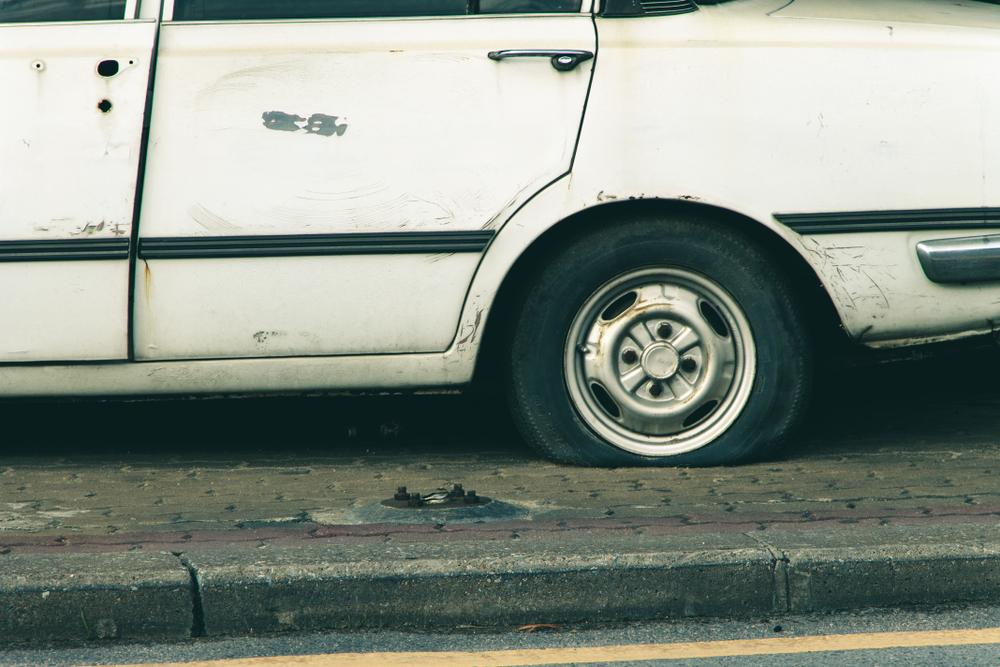scratch: (256, 100, 365, 142)
tire flat: (509, 215, 807, 468)
